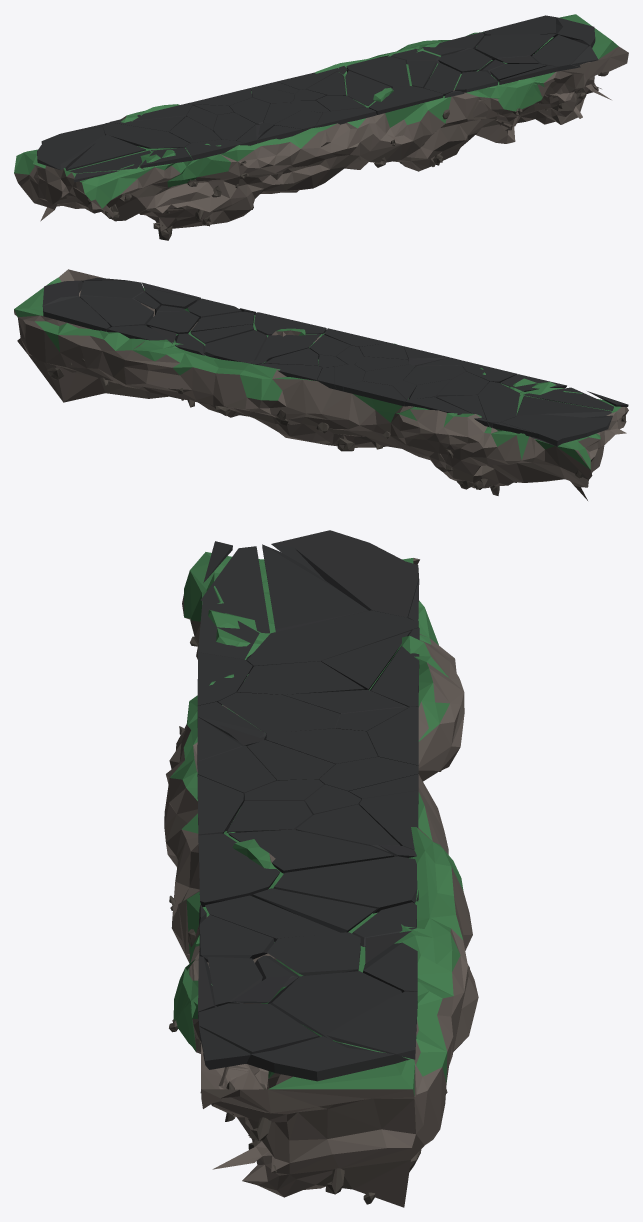
The model's file is road.fbx.
3 views of the same model, one above another, from view 1: azimuth 30°, elevation 25°; view 2: azimuth 150°, elevation 25°; view 3: azimuth 270°, elevation 25° (orthographic). The views are drawn at different scales.
Visible parts, largest first — view 1: Cube.002; view 2: Cube.002; view 3: Cube.002.
Boxes of the visible parts, <box> form: Cube.002: <box>14,14,628,240</box>; Cube.002: <box>14,269,628,500</box>; Cube.002: <box>164,530,478,1207</box>.
Size of the model in its own units: 1175 by 210 by 284.
